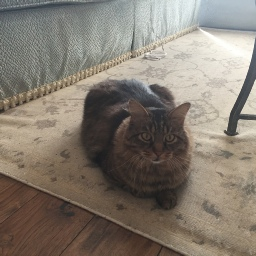cat: (78, 72, 200, 209)
